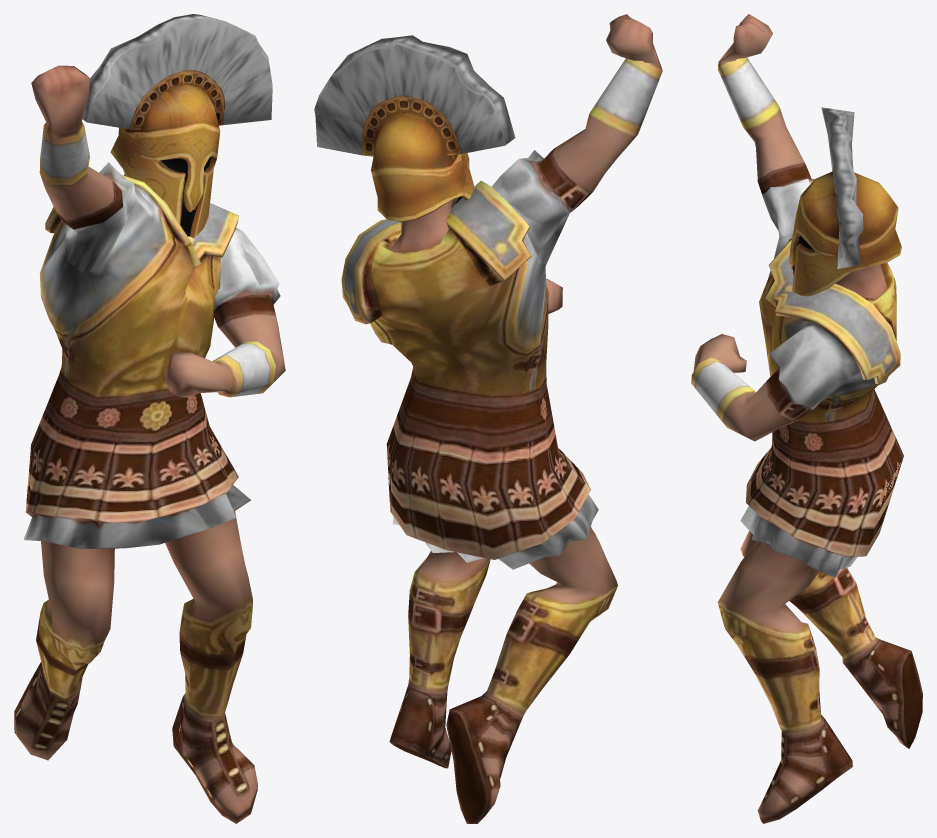
File: rider-ranged-base.glb
3 renders of one model, left to right at view 1: azimuth 30°, elevation 25°; view 2: azimuth 150°, elevation 25°; view 3: azimuth 270°, elevation 25°, orthographic. The views are drawn at different scales.
Bounding box in the file's own units: 0.8861 × 2.37 × 0.6901.
Materials: 2 (2 with a texture image).
